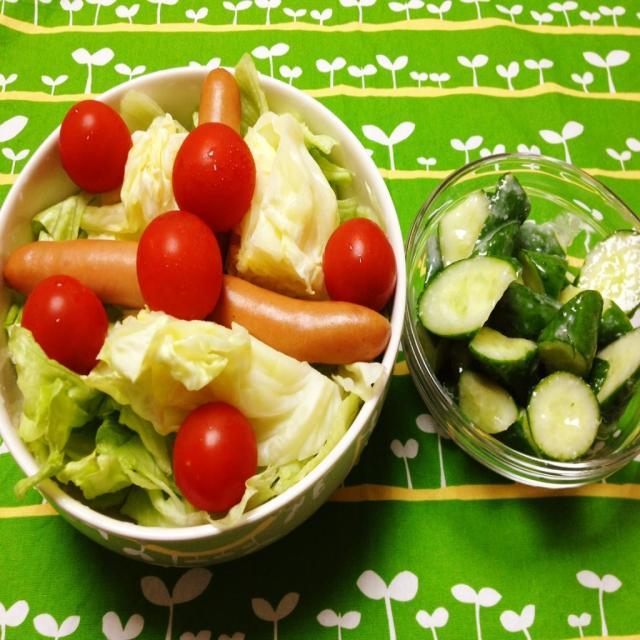Tomato: (136, 210, 222, 322), (170, 125, 258, 234), (21, 277, 107, 377), (167, 403, 247, 499), (320, 217, 394, 313), (60, 100, 132, 196)
